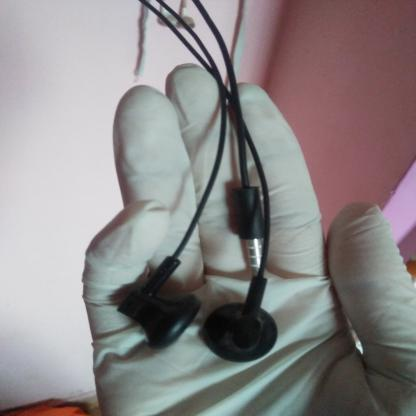gloved_hand: (74, 61, 416, 415)
